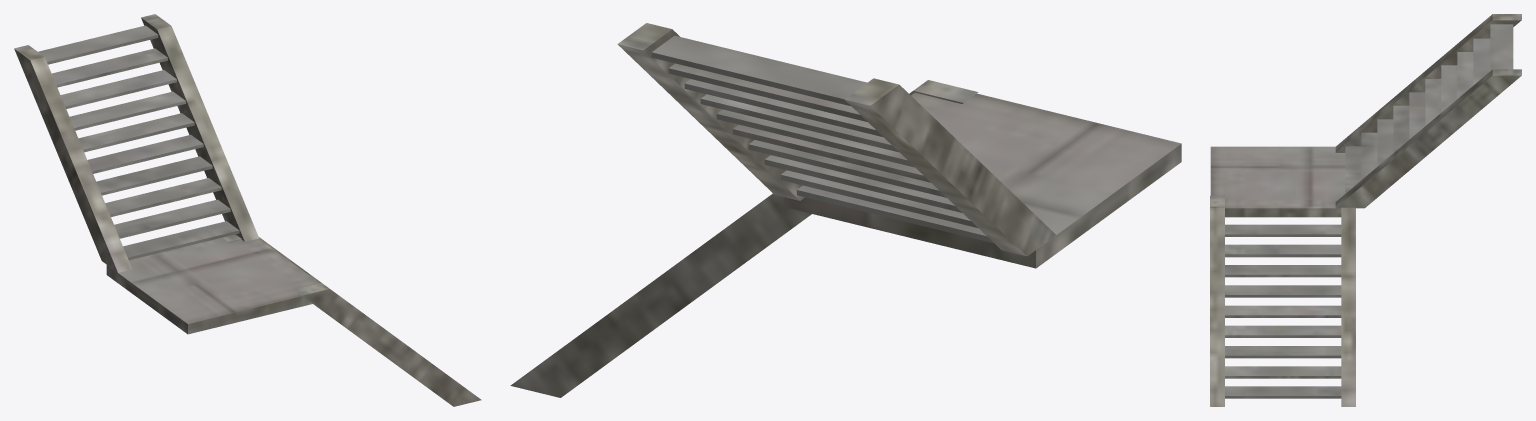
The model's file is stone_stairs_l_shape_textured.glb.
3 views of the same model, side by side, from view 1: azimuth 30°, elevation 25°; view 2: azimuth 150°, elevation 25°; view 3: azimuth 270°, elevation 25° (orthographic). The views are drawn at different scales.
Parts seen in each view (by area): view 1: Cube.001; view 2: Cube.001; view 3: Cube.001.
Part boxes in pixels (x1=…): Cube.001: x1=14, y1=14, x2=481, y2=406; Cube.001: x1=510, y1=23, x2=1181, y2=397; Cube.001: x1=1210, y1=14, x2=1521, y2=406.
Bounding box in the file's own units: 2.08 × 2.01 × 2.14.
1 material, 1 textured.
